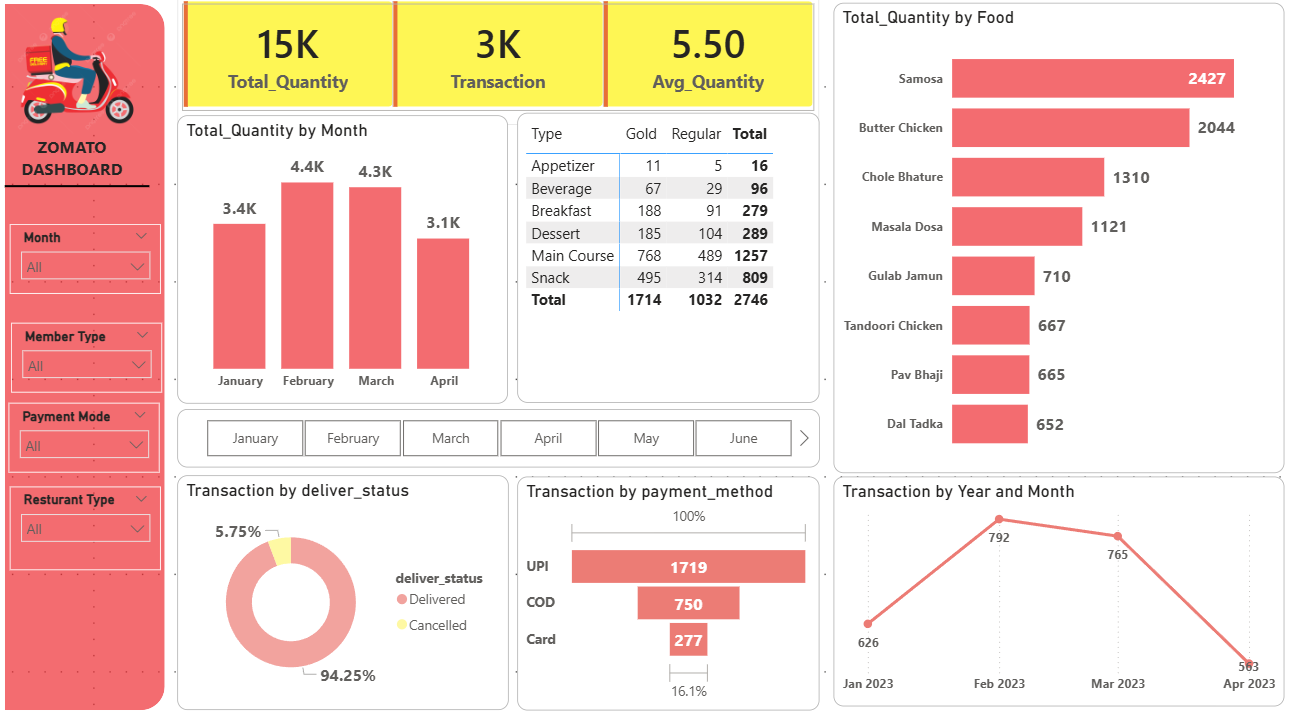

What the dashboard file says about the page in this screenshot:
{"tool":"powerbi","page":{"name":"Page 1","canvas":[1280,720],"ordinal":0},"visuals":[{"type":"shape","box":[8.6,14.8,157.5,695.4],"z":0},{"type":"image","box":[13.8,13.8,132.5,133.8],"z":1000},{"type":"textbox","box":[8.8,138.8,132.5,73.8],"z":2000},{"type":"shape","box":[8.8,176.2,142.5,36.2],"z":3000},{"type":"cardVisual","fields":{"Data":["Sales Data.Total_Quantity","Sales Data.Transaction","Sales Data.Avg_Quantity"]},"box":[178.4,0,632.4,133.8],"z":4000},{"type":"clusteredColumnChart","fields":{"Y":["Sales Data.Total_Quantity"],"Category":["Sales Data.orderDate.Variation.Date Hierarchy.Month"]},"box":[178.1,123.8,325.6,283.8],"z":5000},{"type":"pivotTable","title":"Transaction by Food & Member Type","fields":{"Rows":["Food_Details.Type"],"Columns":["Customer Details.member_Type"],"Values":["Sales Data.Transaction"]},"box":[513.4,122.4,297.7,285.2],"z":6000},{"type":"donutChart","fields":{"Category":["Sales Data.deliver_status"],"Y":["Sales Data.Transaction"]},"box":[178.5,478.8,326.2,231.4],"z":7000},{"type":"funnel","fields":{"Category":["Sales Data.payment_method"],"Y":["Sales Data.Transaction"]},"box":[513.2,480,297.8,230.2],"z":8000},{"type":"clusteredBarChart","fields":{"Y":["Sales Data.Total_Quantity"],"Category":["Food_Details.Food"]},"box":[825,13.9,443.8,463.3],"z":9000},{"type":"lineChart","fields":{"Category":["Sales Data.orderDate.Variation.Date Hierarchy.Year","Sales Data.orderDate.Variation.Date Hierarchy.Month"],"Y":["Sales Data.Transaction"]},"box":[824.6,480,444.3,226.5],"z":10000},{"type":"slicer","fields":{"Values":["Sales Data.orderDate.Variation.Date Hierarchy.Month"]},"box":[13.5,231.4,148.9,68.9],"z":11000},{"type":"slicer","fields":{"Values":["Customer Details.member_Type"]},"box":[14.8,328.6,148.9,68.9],"z":12000},{"type":"slicer","fields":{"Values":["Sales Data.payment_method"]},"box":[12.3,407.4,148.9,68.9],"z":13000},{"type":"slicer","fields":{"Values":["Resturant_Details.Resturant_type"]},"box":[13.5,489.8,148.9,82.5],"z":14000},{"type":"slicer","fields":{"Values":["Sales Data.orderDate.Variation.Date Hierarchy.Month"]},"box":[178.5,413.5,632.6,57.8],"z":15000}]}

Visuals, with their boxes in screenshot pixels (x1, y1, x2, y2), scaled from the page's 1280x720 canvas onto the 1292x713 screenshot:
shape: box=[9, 15, 168, 703]
image: box=[14, 14, 148, 146]
textbox: box=[9, 137, 143, 211]
shape: box=[9, 174, 153, 210]
cardVisual - Sales Data.Total_Quantity x Sales Data.Transaction: box=[180, 0, 818, 132]
clusteredColumnChart - Sales Data.Total_Quantity x Sales Data.orderDate.Variation.Date Hierarchy.Month: box=[180, 123, 508, 404]
"Transaction by Food & Member Type" pivotTable: box=[518, 121, 819, 404]
donutChart - Sales Data.deliver_status x Sales Data.Transaction: box=[180, 474, 509, 703]
funnel - Sales Data.payment_method x Sales Data.Transaction: box=[518, 475, 819, 703]
clusteredBarChart - Sales Data.Total_Quantity x Food_Details.Food: box=[833, 14, 1281, 473]
lineChart - Sales Data.orderDate.Variation.Date Hierarchy.Year x Sales Data.orderDate.Variation.Date Hierarchy.Month: box=[832, 475, 1281, 700]
slicer - Sales Data.orderDate.Variation.Date Hierarchy.Month: box=[14, 229, 164, 297]
slicer - Customer Details.member_Type: box=[15, 325, 165, 394]
slicer - Sales Data.payment_method: box=[12, 403, 163, 472]
slicer - Resturant_Details.Resturant_type: box=[14, 485, 164, 567]
slicer - Sales Data.orderDate.Variation.Date Hierarchy.Month: box=[180, 409, 819, 467]
